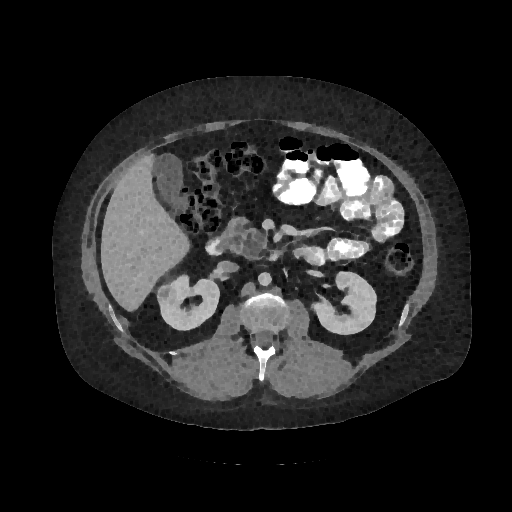Lesion: (156, 283, 178, 311)
